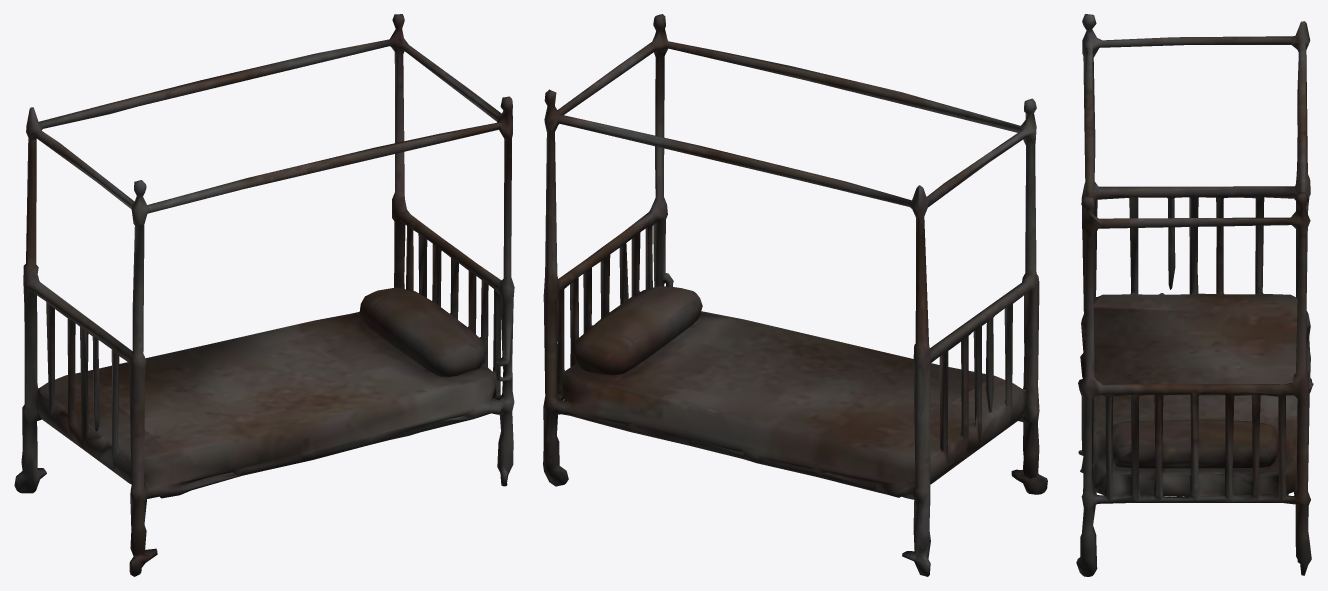
Rendered from old-iron-asylum-bed-v003.glb.
3 renders of one model, left to right at view 1: azimuth 30°, elevation 25°; view 2: azimuth 150°, elevation 25°; view 3: azimuth 270°, elevation 25°, orthographic. The views are drawn at different scales.
Parts seen in each view (by area): view 1: old-iron-asylum-bed; view 2: old-iron-asylum-bed; view 3: old-iron-asylum-bed.
Boxes of the visible parts, x1,y1,x2,y2 form: old-iron-asylum-bed: [14, 14, 514, 576]; old-iron-asylum-bed: [543, 14, 1047, 576]; old-iron-asylum-bed: [1076, 14, 1313, 576].
Size of the model in its own units: 1.26 by 1.22 by 0.6803.
Materials: 1 (1 with a texture image).
